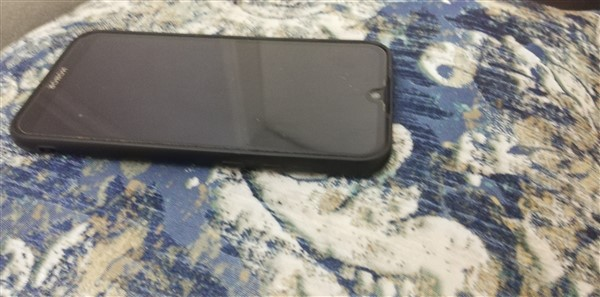telefon: (6, 25, 400, 180)
